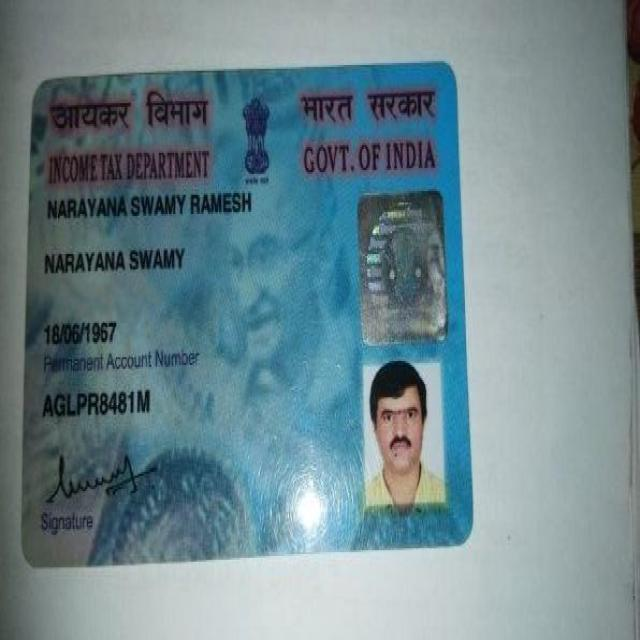pan_card: (26, 66, 471, 556)
